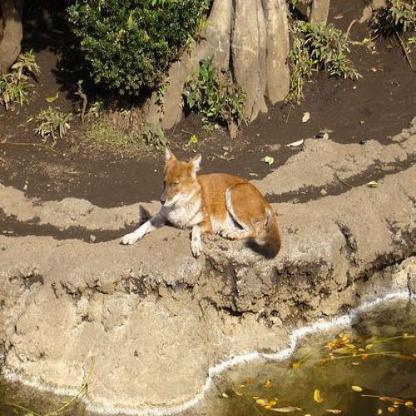dhole: (118, 142, 282, 258)
